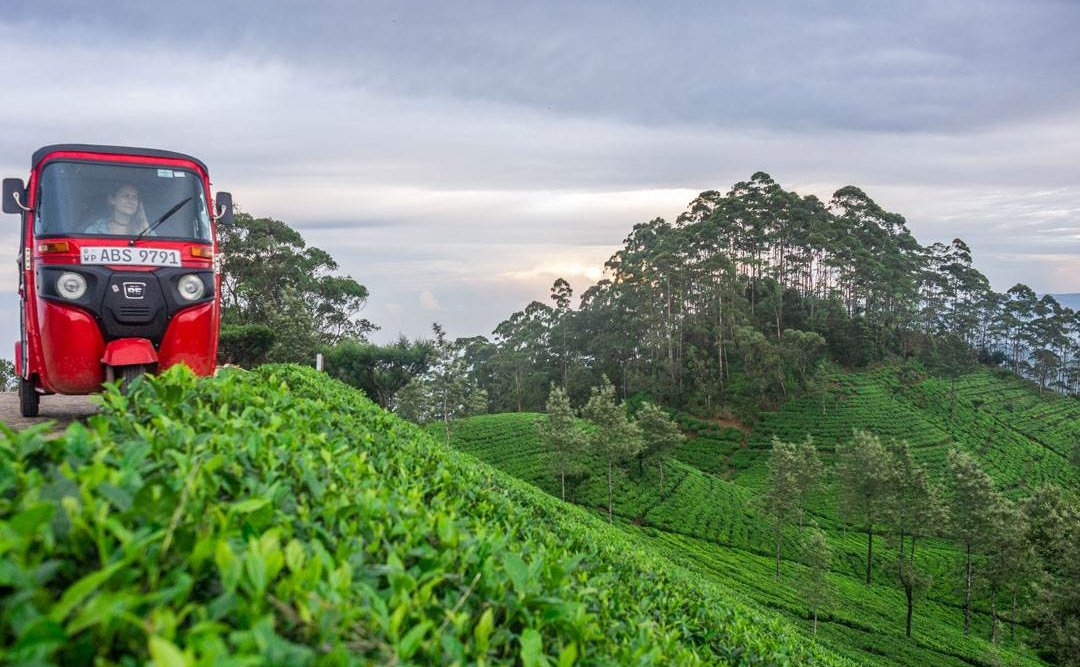tuk tuk: (2, 141, 236, 364)
